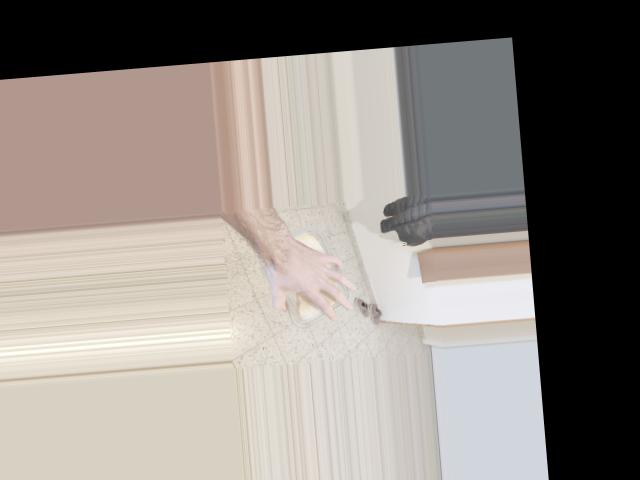cheese: (257, 227, 356, 327)
